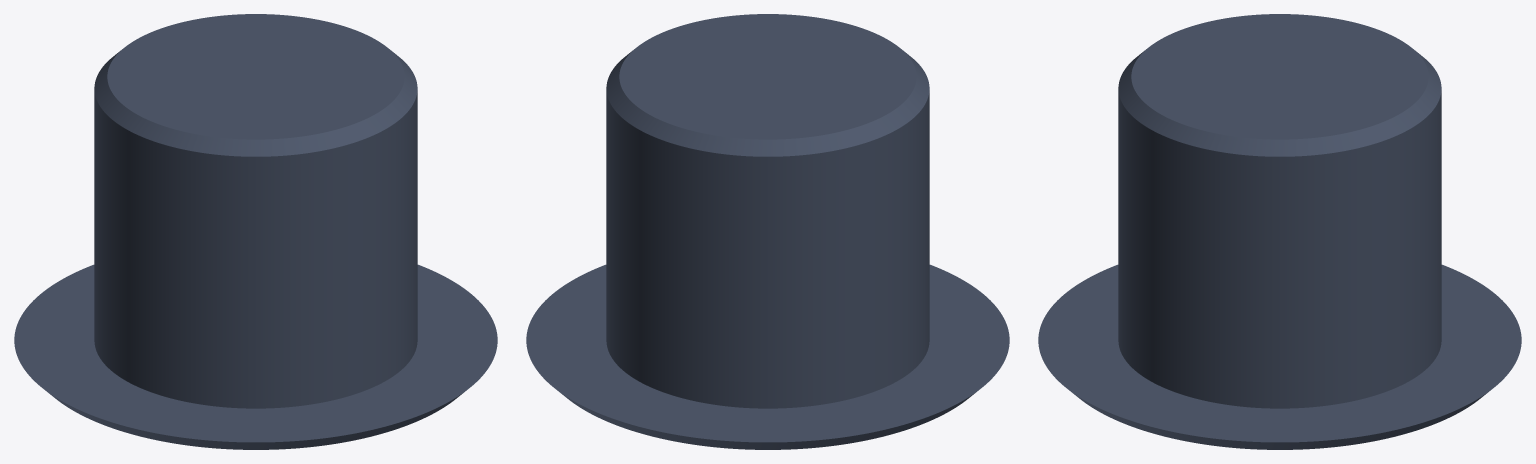
File: pin.glb
3 renders of one model, left to right at view 1: azimuth 30°, elevation 25°; view 2: azimuth 150°, elevation 25°; view 3: azimuth 270°, elevation 25°, orthographic.
Visible parts, largest first — view 1: Pin; view 2: Pin; view 3: Pin.
Boxes of the visible parts, bbox=[...] form: Pin: bbox=[14, 14, 497, 449]; Pin: bbox=[526, 14, 1009, 449]; Pin: bbox=[1038, 14, 1521, 449].
Size of the model in its own units: 0.00748 by 0.00474 by 0.00748.
